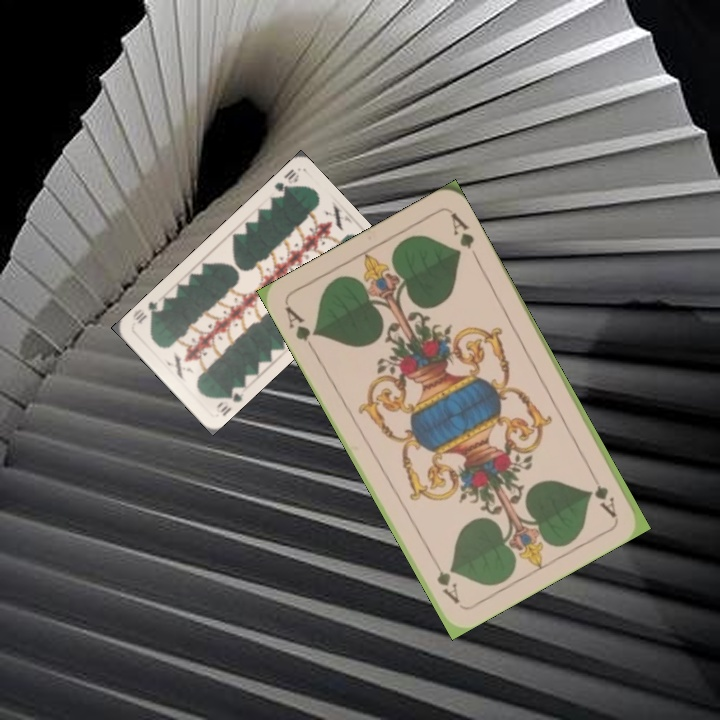G10: (212, 382, 246, 418), (270, 165, 302, 196)
GA: (281, 302, 320, 355), (584, 465, 619, 520)
